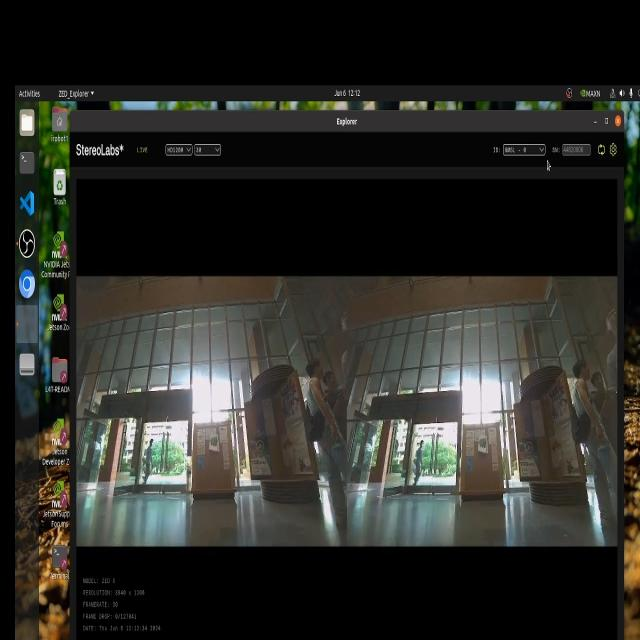green: (476, 432, 492, 456), (207, 434, 217, 456)
